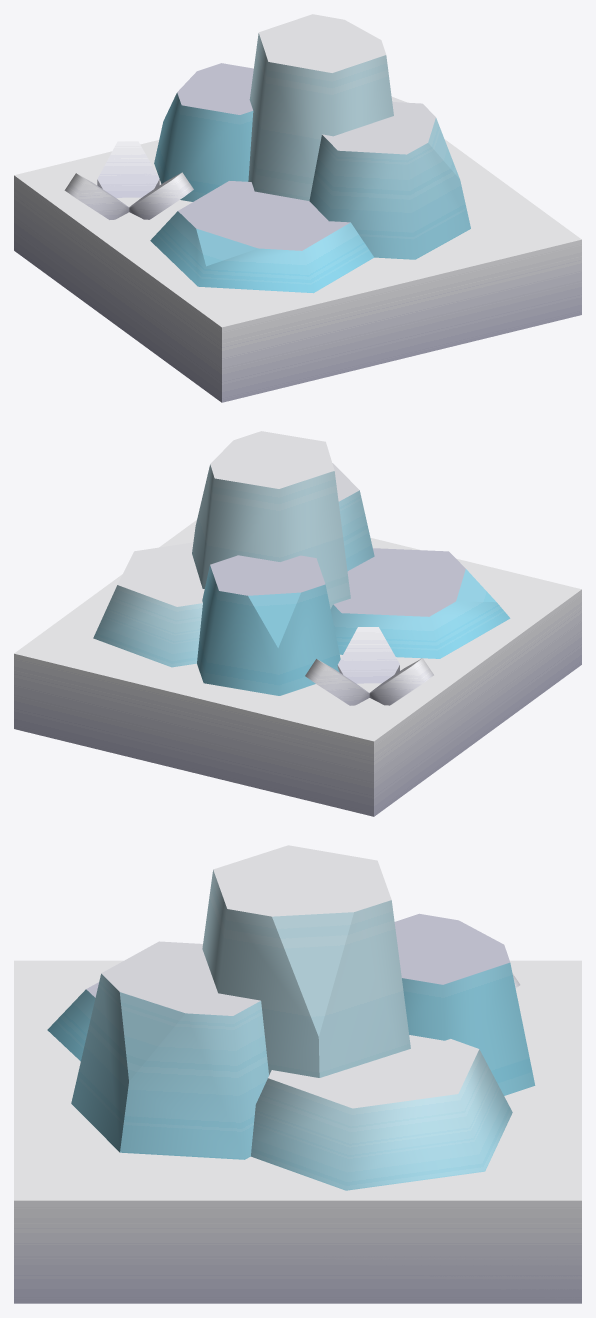
Rendered from snow-tile-hill.glb.
The picture shows the model from 3 angles, top to bottom: view 1: azimuth 30°, elevation 25°; view 2: azimuth 150°, elevation 25°; view 3: azimuth 270°, elevation 25°; orthographic projection. The views are drawn at different scales.
Parts seen in each view (by area): view 1: snow-tile-hill; view 2: snow-tile-hill; view 3: snow-tile-hill.
Boxes of the visible parts, x1=… form: snow-tile-hill: x1=14, y1=14, x2=581, y2=402; snow-tile-hill: x1=14, y1=431, x2=581, y2=816; snow-tile-hill: x1=14, y1=845, x2=581, y2=1303.
Size of the model in its own units: 1 by 0.6146 by 1.
Materials: 1 (1 with a texture image).
